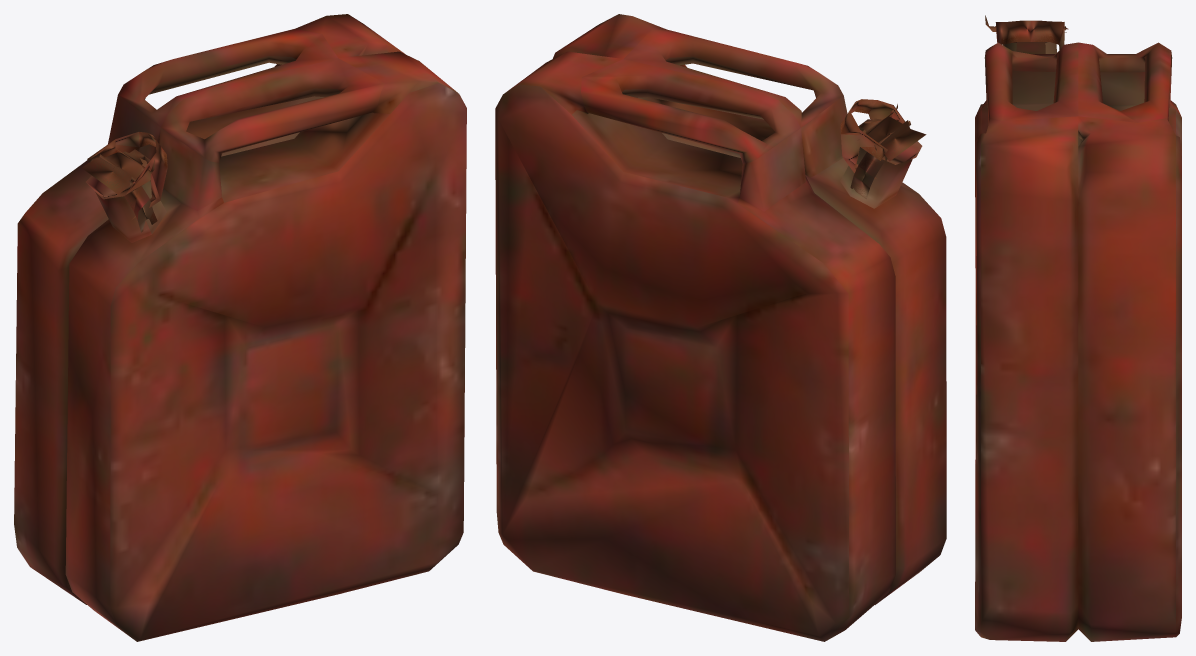
Rendered from jerrycan.glb.
3 views of the same model, side by side, from view 1: azimuth 30°, elevation 25°; view 2: azimuth 150°, elevation 25°; view 3: azimuth 270°, elevation 25° (orthographic). The views are drawn at different scales.
Parts seen in each view (by area): view 1: metal_jerrycan; view 2: metal_jerrycan; view 3: metal_jerrycan.
Boxes of the visible parts, bbox=[...] form: metal_jerrycan: bbox=[14, 14, 466, 641]; metal_jerrycan: bbox=[495, 14, 946, 641]; metal_jerrycan: bbox=[975, 15, 1181, 641].
Bounding box in the file's own units: 0.3478 × 0.4536 × 0.1692.
Materials: 1 (1 with a texture image).
